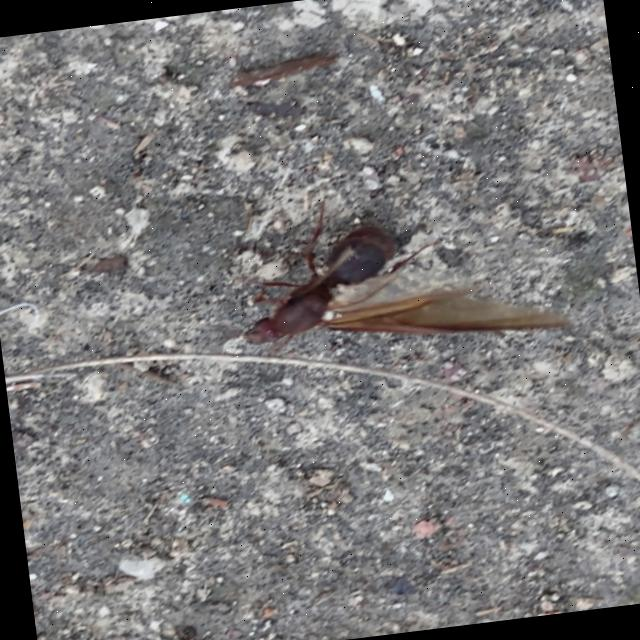Alive-Female-Alate: (196, 172, 569, 374)
